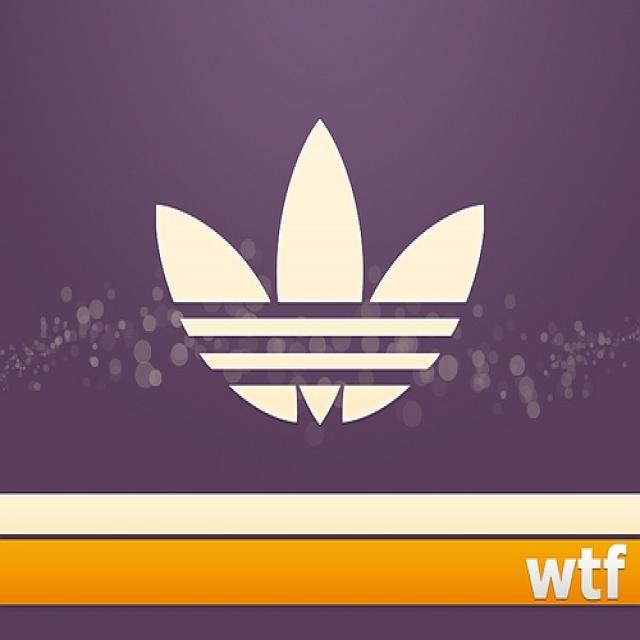adidas: (132, 110, 503, 436)
